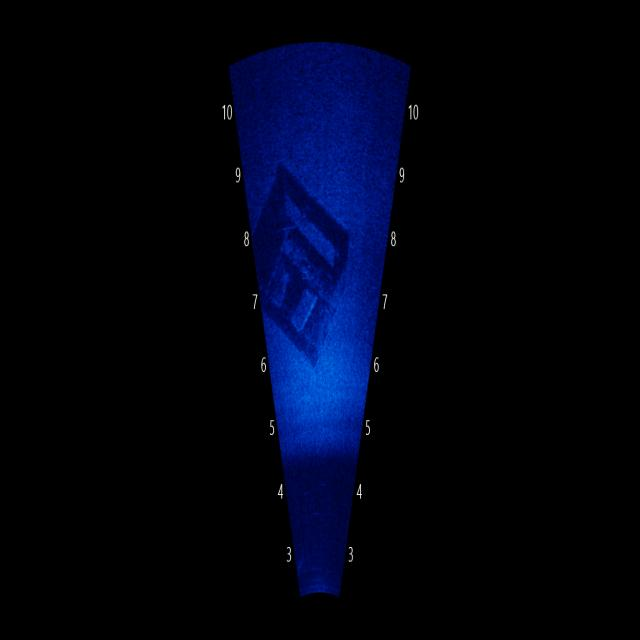square: (250, 162, 354, 387)
